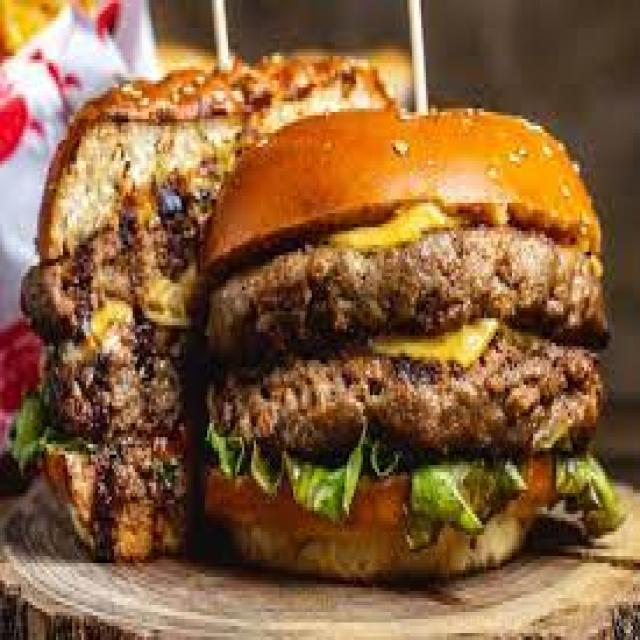Wet Waste: (245, 110, 597, 563), (67, 86, 222, 539)
